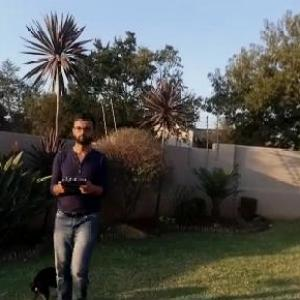follow: (44, 110, 112, 299)
